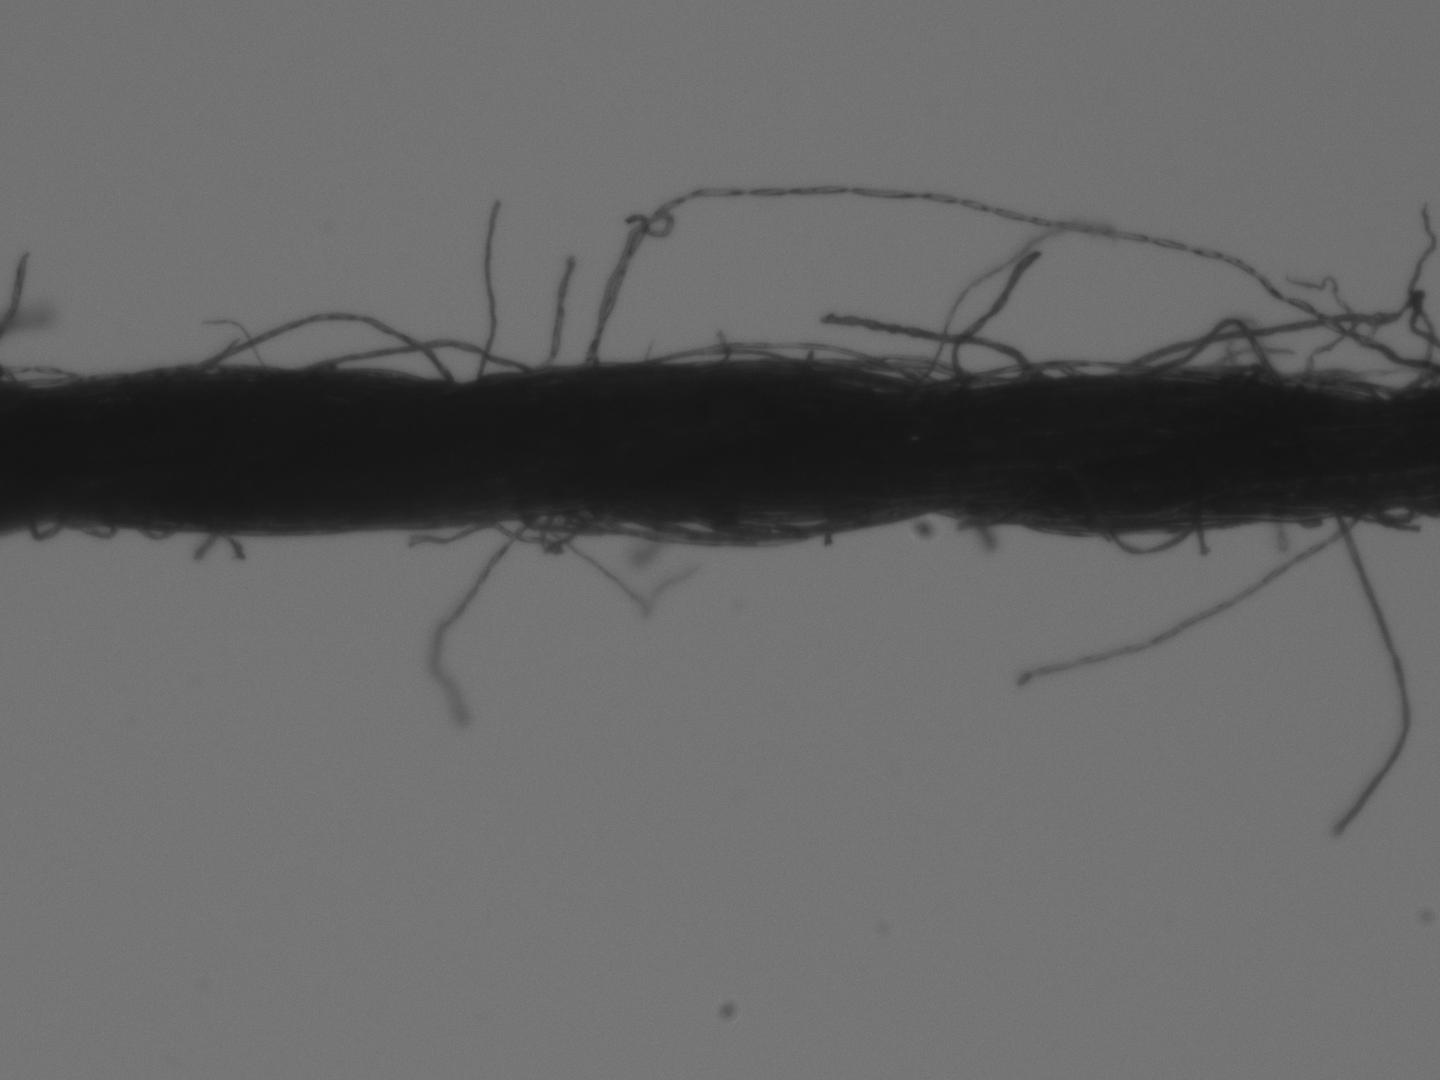loop_fiber: (582, 179, 1439, 395), (195, 311, 456, 385), (657, 344, 917, 385), (303, 337, 528, 382), (1153, 310, 1276, 379), (949, 356, 1176, 386), (822, 354, 1003, 386), (1107, 518, 1202, 560), (534, 506, 595, 559), (1364, 506, 1417, 531), (22, 513, 58, 543), (127, 524, 180, 543), (66, 523, 111, 543)
protruding_fiber: (1014, 517, 1369, 690), (1330, 515, 1415, 838), (431, 516, 527, 729), (820, 312, 1036, 381), (950, 246, 1043, 377), (474, 197, 511, 376), (535, 260, 574, 377)
